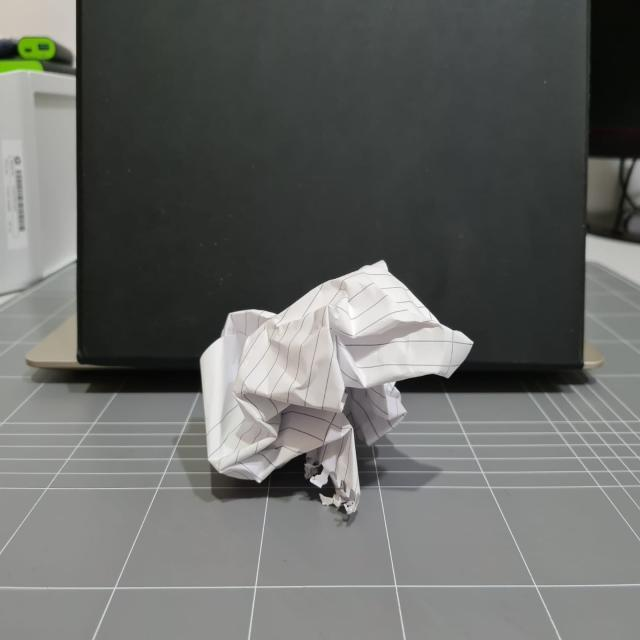Paper: (200, 261, 475, 508)
